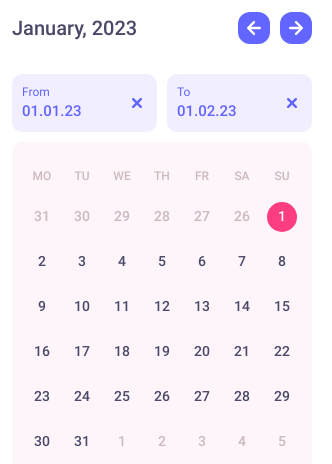
it: Date Picker › should take default dates and change months by click of them
Click the button "From 01.01.23". click: (74, 103)
box: 22,84 -> 127,122
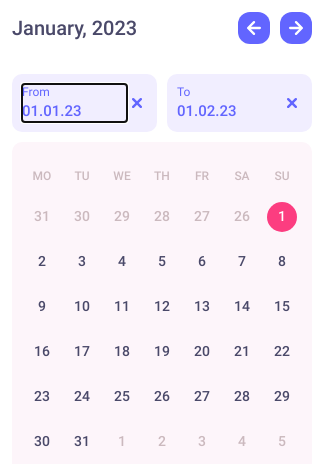
Expected: the 1st button "1" is shown, 267,202 -> 297,232
Click the button "To 01.02.23". click: (230, 103)
box: 177,84 -> 282,122
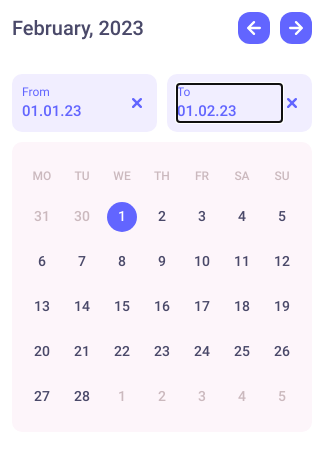
Expected: the 1st button "1" is shown, 107,202 -> 137,232
